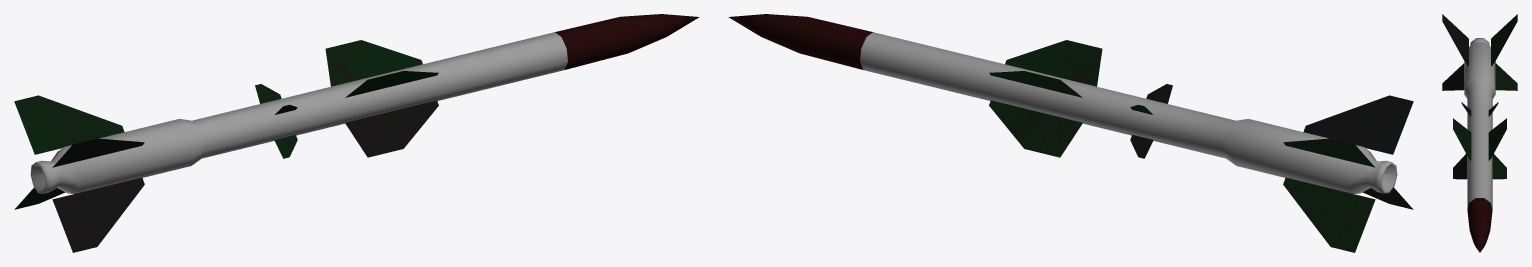
File: Missile.FBX
3 views of the same model, side by side, from view 1: azimuth 30°, elevation 25°; view 2: azimuth 150°, elevation 25°; view 3: azimuth 270°, elevation 25° (orthographic). The views are drawn at different scales.
Visible parts, largest first — view 1: SA_Body; view 2: SA_Body; view 3: SA_Body.
Boxes of the visible parts, x1=… form: SA_Body: x1=14, y1=14, x2=699, y2=252; SA_Body: x1=728, y1=14, x2=1413, y2=252; SA_Body: x1=1442, y1=14, x2=1517, y2=252.
Bounding box in the file's own units: 53.84 × 8.3 × 8.45.
